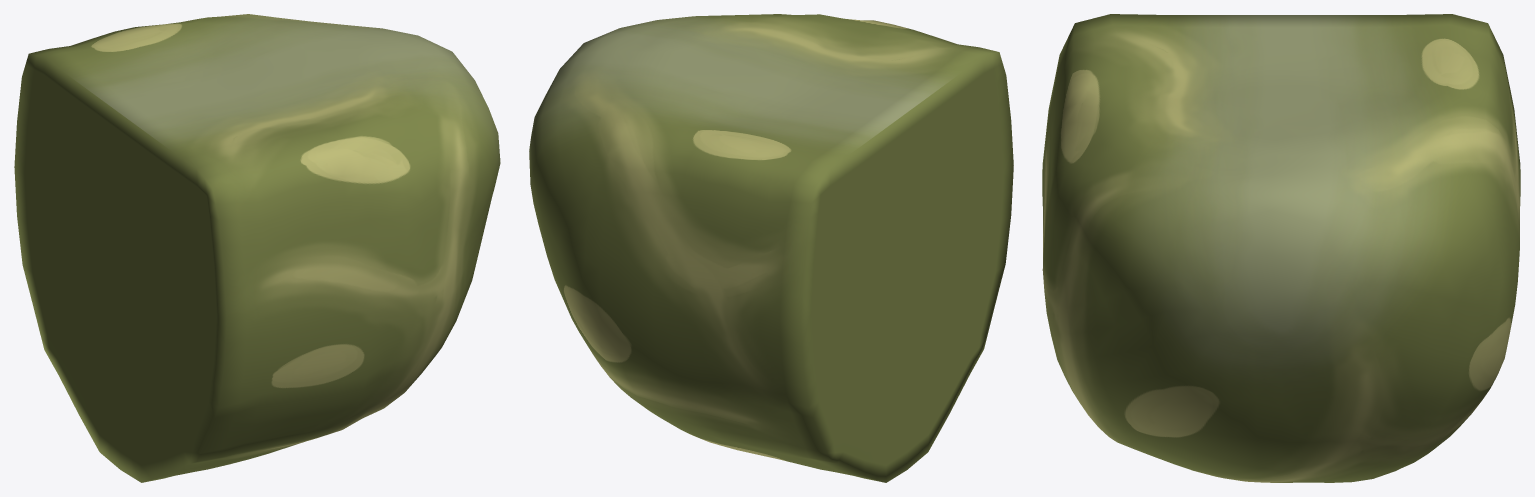
The model's file is StarPathEnd.fbx.
3 views of the same model, side by side, from view 1: azimuth 30°, elevation 25°; view 2: azimuth 150°, elevation 25°; view 3: azimuth 270°, elevation 25° (orthographic). The views are drawn at different scales.
Visible parts, largest first — view 1: StarPathEnd; view 2: StarPathEnd; view 3: StarPathEnd.
Part boxes in pixels (<box>): StarPathEnd: <box>14,14,500,482</box>; StarPathEnd: <box>529,14,1013,482</box>; StarPathEnd: <box>1042,14,1520,482</box>.
Size of the model in its own units: 204 by 205 by 219.
Materials: 1 (1 with a texture image).
